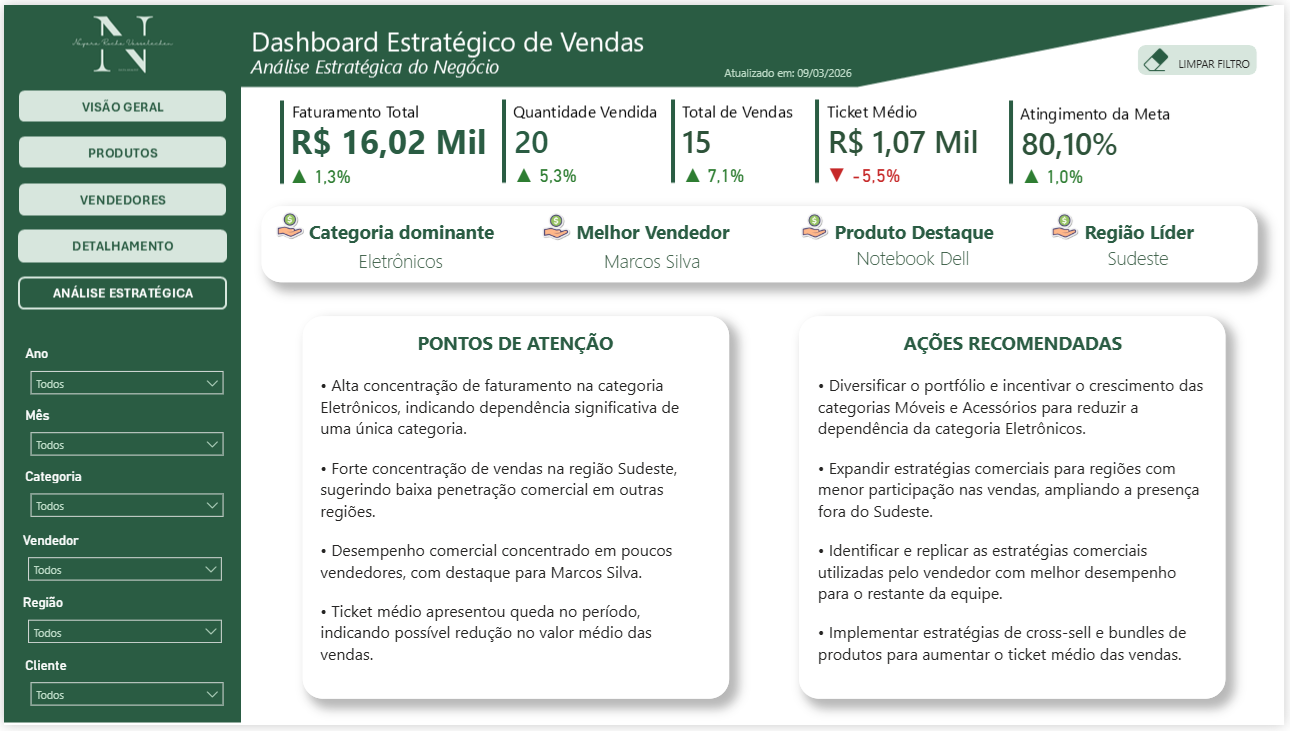

The dashboard page shown, as its layout file describes it:
{"tool":"powerbi","page":{"name":"Insights","canvas":[1280,720],"ordinal":4},"visuals":[{"type":"actionButton","box":[15.7,87.1,205.7,28.6],"z":0},{"type":"actionButton","box":[15.7,132.9,205.7,28.6],"z":1000},{"type":"actionButton","box":[15.7,180,205.7,28.6],"z":2000},{"type":"textbox","box":[692.9,52.9,182.9,38.6],"z":4000},{"type":"shape","box":[298.8,311.2,426.2,382.5],"z":5000},{"type":"slicer","title":"Ano","fields":{"Values":["dim_datas.ano"]},"box":[15.7,341.4,212.9,54.3],"z":6000},{"type":"slicer","title":"Mês","fields":{"Values":["dim_datas.mes_abreviado"]},"box":[15.7,402.9,212.9,52.9],"z":7000},{"type":"slicer","title":"Categoria","fields":{"Values":["dim_produtos.categoria"]},"box":[15.7,464.3,212.9,54.3],"z":8000},{"type":"slicer","title":"Vendedor","fields":{"Values":["dim_vendedores.nome_vendedor"]},"box":[14.3,527.1,214.3,54.3],"z":9000},{"type":"slicer","title":"Região","fields":{"Values":["dim_vendedores.regiao"]},"box":[14.3,590,214.3,54.3],"z":10000},{"type":"slicer","title":"Cliente","fields":{"Values":["dim_clientes.nome_clientes"]},"box":[15.7,652.9,212.9,54.3],"z":11000},{"type":"actionButton","box":[15.7,225.7,205.7,28.6],"z":12000},{"type":"shape","box":[257.1,201.4,995.7,75.7],"z":13000},{"type":"card","title":"Total de Vendas","fields":{"Values":["_medidas_insights.1_categoria_dominante"]},"box":[282.7,242.5,228.8,30],"z":14000},{"type":"card","title":"Total de Vendas","fields":{"Values":["_medidas_insights.2_melhor_vendedor"]},"box":[534,242,229,30],"z":15000},{"type":"card","title":"Total de Vendas","fields":{"Values":["_medidas_insights.3_produto_maior_faturamento"]},"box":[795,240,228,30],"z":16000},{"type":"card","title":"Total de Vendas","fields":{"Values":["_medidas_insights.4_regiao_lider"]},"box":[1020,240,228,30],"z":17000},{"type":"textbox","box":[283,208.8,230,35],"z":18000},{"type":"textbox","box":[534,208.8,230,35],"z":19000},{"type":"textbox","box":[795.2,208.8,230,35],"z":20000},{"type":"textbox","box":[1020.2,208.8,230,35],"z":21000},{"type":"image","box":[263.8,203.8,43.8,31.2],"z":22000},{"type":"image","box":[530,205,43.8,31.2],"z":23000},{"type":"image","box":[788.8,205,42.5,30],"z":24000},{"type":"image","box":[1038.8,205,42.5,30],"z":25000},{"type":"shape","box":[795,311.2,426.2,382.5],"z":26000},{"type":"textbox","box":[400,320,222.5,35],"z":27000},{"type":"textbox","box":[891.2,320,235,35],"z":28000},{"type":"textbox","box":[311.2,363.8,398.8,316.2],"z":29000},{"type":"textbox","box":[808.8,363.8,398.8,316.2],"z":30000},{"type":"card","title":"Faturamento Total","fields":{"Values":["_medidas.faturamento_total"]},"box":[257.1,104.3,254.3,65.7],"z":31000},{"type":"card","title":"Qtd Vendida","fields":{"Values":["_medidas.quantidade_vendida"]},"box":[475.6,103.7,105,66.1],"z":32000},{"type":"card","title":"Total de Vendas","fields":{"Values":["_medidas.total_vendas"]},"box":[641.4,103.7,103.7,66.1],"z":33000},{"type":"card","title":"Ticket Médio","fields":{"Values":["_medidas.ticket_medio"]},"box":[776.2,103.7,246.2,66.1],"z":34000},{"type":"card","title":"Faturamento Total","fields":{"Values":["_medidas.tendência_faturamento"]},"box":[271.4,151.4,90,41.4],"z":35000},{"type":"card","title":"Faturamento Total","fields":{"Values":["_medidas.7_tendência_qtd_vendida"]},"box":[496.3,150.3,90.7,41.5],"z":36000},{"type":"card","title":"Faturamento Total","fields":{"Values":["_medidas.7_tendência_total_vendas"]},"box":[664.8,150.3,89.4,41.5],"z":37000},{"type":"card","title":"Faturamento Total","fields":{"Values":["_medidas.7_tendência_ticket_medio"]},"box":[815.1,150.3,89.4,41.5],"z":38000},{"type":"card","title":"Ticket Médio","fields":{"Values":["_medidas.1_atingimento_meta"]},"box":[990,106.3,151.6,64.8],"z":39000},{"type":"card","title":"Faturamento Total","fields":{"Values":["_medidas.3_2_tendencia_atingimento_meta"]},"box":[1004.3,151.6,89.4,41.5],"z":40000},{"type":"shape","box":[1133.6,40,119.1,30],"z":41000},{"type":"textbox","box":[1165.5,43.6,90,28.2],"z":42000},{"type":"image","box":[1130,40.9,42.7,27.3],"z":43000},{"type":"actionButton","box":[1135,40,118,32],"z":43500}]}

Visuals, with their boxes in screenshot pixels (x1, y1, x2, y2), scaled from the page's 1280x720 canvas onto the 1290x731 screenshot:
actionButton: box(16, 88, 223, 117)
actionButton: box(16, 135, 223, 164)
actionButton: box(16, 183, 223, 212)
textbox: box(698, 54, 883, 93)
shape: box(301, 316, 731, 704)
"Ano" slicer: box(16, 347, 230, 402)
"Mês" slicer: box(16, 409, 230, 463)
"Categoria" slicer: box(16, 471, 230, 527)
"Vendedor" slicer: box(14, 535, 230, 590)
"Região" slicer: box(14, 599, 230, 654)
"Cliente" slicer: box(16, 663, 230, 718)
actionButton: box(16, 229, 223, 258)
shape: box(259, 204, 1263, 281)
"Total de Vendas" card: box(285, 246, 515, 277)
"Total de Vendas" card: box(538, 246, 769, 276)
"Total de Vendas" card: box(801, 244, 1031, 274)
"Total de Vendas" card: box(1028, 244, 1258, 274)
textbox: box(285, 212, 517, 248)
textbox: box(538, 212, 770, 248)
textbox: box(801, 212, 1033, 248)
textbox: box(1028, 212, 1260, 248)
image: box(266, 207, 310, 239)
image: box(534, 208, 578, 240)
image: box(795, 208, 838, 239)
image: box(1047, 208, 1090, 239)
shape: box(801, 316, 1231, 704)
textbox: box(403, 325, 627, 360)
textbox: box(898, 325, 1135, 360)
textbox: box(314, 369, 716, 690)
textbox: box(815, 369, 1217, 690)
"Faturamento Total" card: box(259, 106, 515, 173)
"Qtd Vendida" card: box(479, 105, 585, 172)
"Total de Vendas" card: box(646, 105, 751, 172)
"Ticket Médio" card: box(782, 105, 1030, 172)
"Faturamento Total" card: box(274, 154, 364, 196)
"Faturamento Total" card: box(500, 153, 592, 195)
"Faturamento Total" card: box(670, 153, 760, 195)
"Faturamento Total" card: box(821, 153, 912, 195)
"Ticket Médio" card: box(998, 108, 1151, 174)
"Faturamento Total" card: box(1012, 154, 1102, 196)
shape: box(1142, 41, 1262, 71)
textbox: box(1175, 44, 1265, 73)
image: box(1139, 42, 1182, 69)
actionButton: box(1144, 41, 1263, 73)
